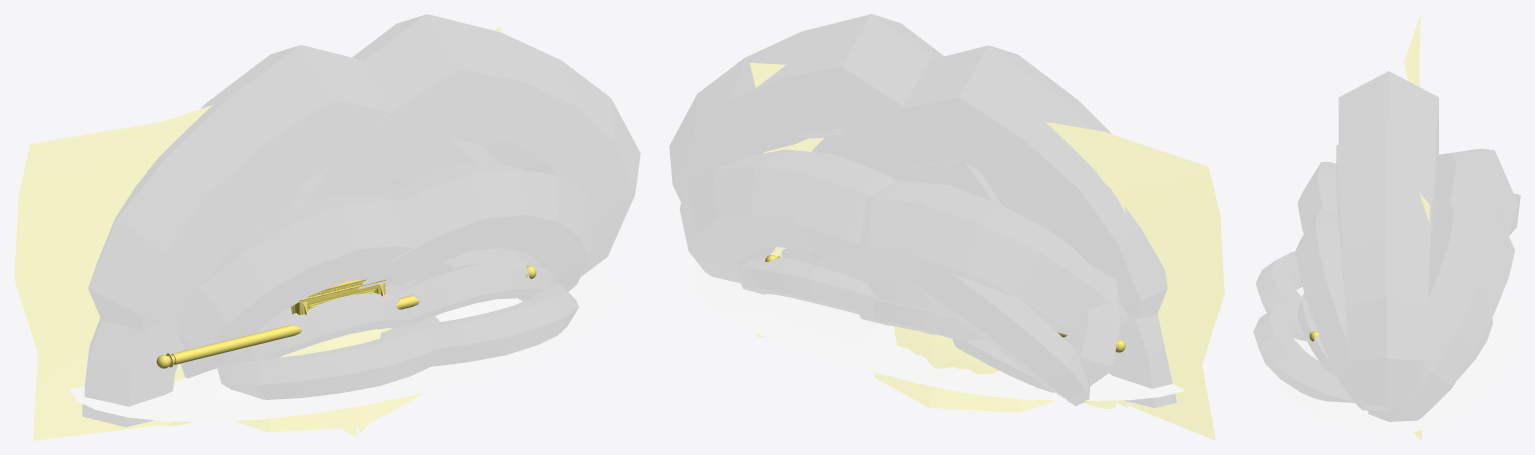
3 renders of one model, left to right at view 1: azimuth 30°, elevation 25°; view 2: azimuth 150°, elevation 25°; view 3: azimuth 270°, elevation 25°, orthographic. The views are drawn at different scales.
Parts seen in each view (by area): view 1: Prominence_Arch_Large_04, Prominence_Arch_Large_03, Flare_02, Prominence_Arch_Large_01, Flare_Large, Baras.002, Prominence_01, Arca; view 2: Prominence_Arch_Large_04, Prominence_Arch_Large_03, Flare_02, Prominence_Arch_Large_01, Prominence_Arch_Large_02, Flare_Large, Prominence_03; view 3: Prominence_Arch_Large_04, Prominence_Arch_Large_03, Flare_02, Prominence_Arch_Large_02.
Boxes of the visible parts, x1,y1,x2,y2 form: Prominence_Arch_Large_04: [69, 14, 640, 421]; Prominence_Arch_Large_03: [69, 45, 498, 412]; Flare_02: [14, 26, 501, 440]; Prominence_Arch_Large_01: [82, 180, 515, 427]; Flare_Large: [234, 393, 421, 432]; Baras.002: [156, 265, 536, 368]; Prominence_01: [165, 328, 392, 426]; Arca: [291, 282, 385, 315]; Prominence_Arch_Large_04: [669, 14, 1211, 405]; Prominence_Arch_Large_03: [799, 45, 1207, 400]; Flare_02: [750, 62, 1224, 440]; Prominence_Arch_Large_01: [790, 172, 1176, 407]; Prominence_Arch_Large_02: [868, 278, 1066, 400]; Flare_Large: [874, 373, 1057, 412]; Prominence_03: [894, 326, 999, 374]; Prominence_Arch_Large_04: [1253, 119, 1520, 434]; Prominence_Arch_Large_03: [1255, 71, 1517, 340]; Flare_02: [1404, 15, 1429, 440]; Prominence_Arch_Large_02: [1498, 286, 1513, 328].
Bounding box in the file's own units: 4.55 × 2.57 × 2.15.
